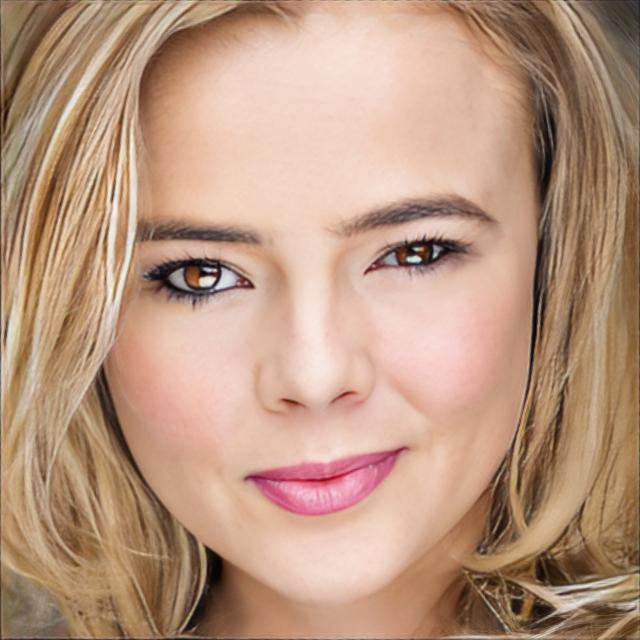content: (104, 24, 532, 608)
